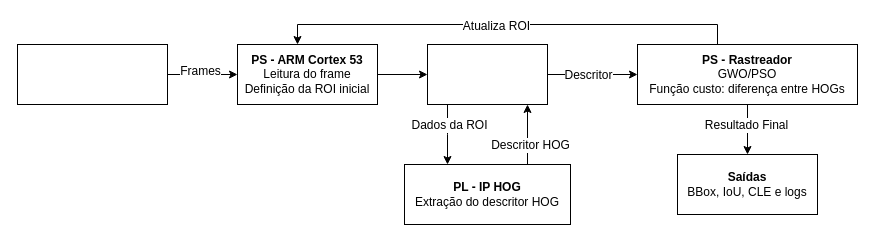
Some shapes in this 875 by 242 pixel diagram are drawn without their labels. The box of each missing label's shape, as (x1, y1, x2, y2) in pixels:
Dataset de Imagens Armazenado na Kria KV260: (16, 44, 168, 104)
DMA/Memória DDR Transferência PS-PL: (426, 44, 548, 104)
